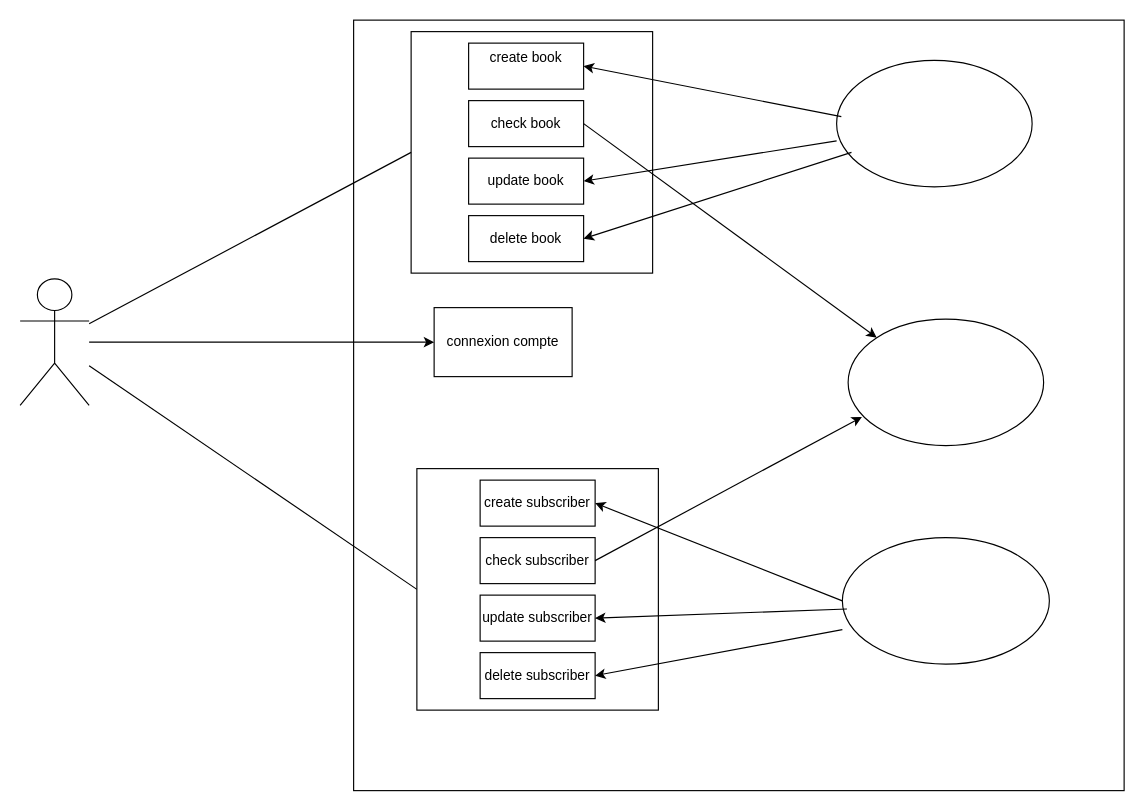
Some shapes in this 1144 by 811 pixel diagram are drawn without their labels. The centre of each missing label's shape, as x and y in pixels:
bookList: point (933, 123)
Librerian: point (54, 341)
loanList: point (945, 382)
subscriberList: point (945, 600)
